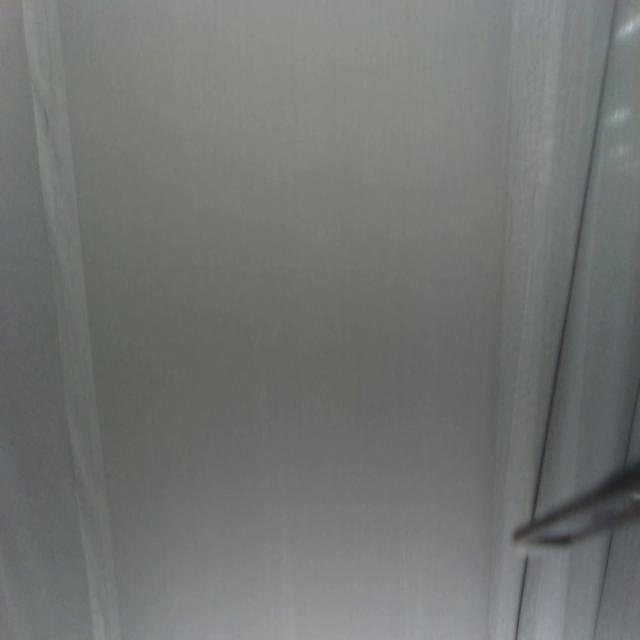crease: (23, 1, 121, 640), (532, 0, 619, 519), (590, 532, 616, 638), (516, 553, 531, 640)
